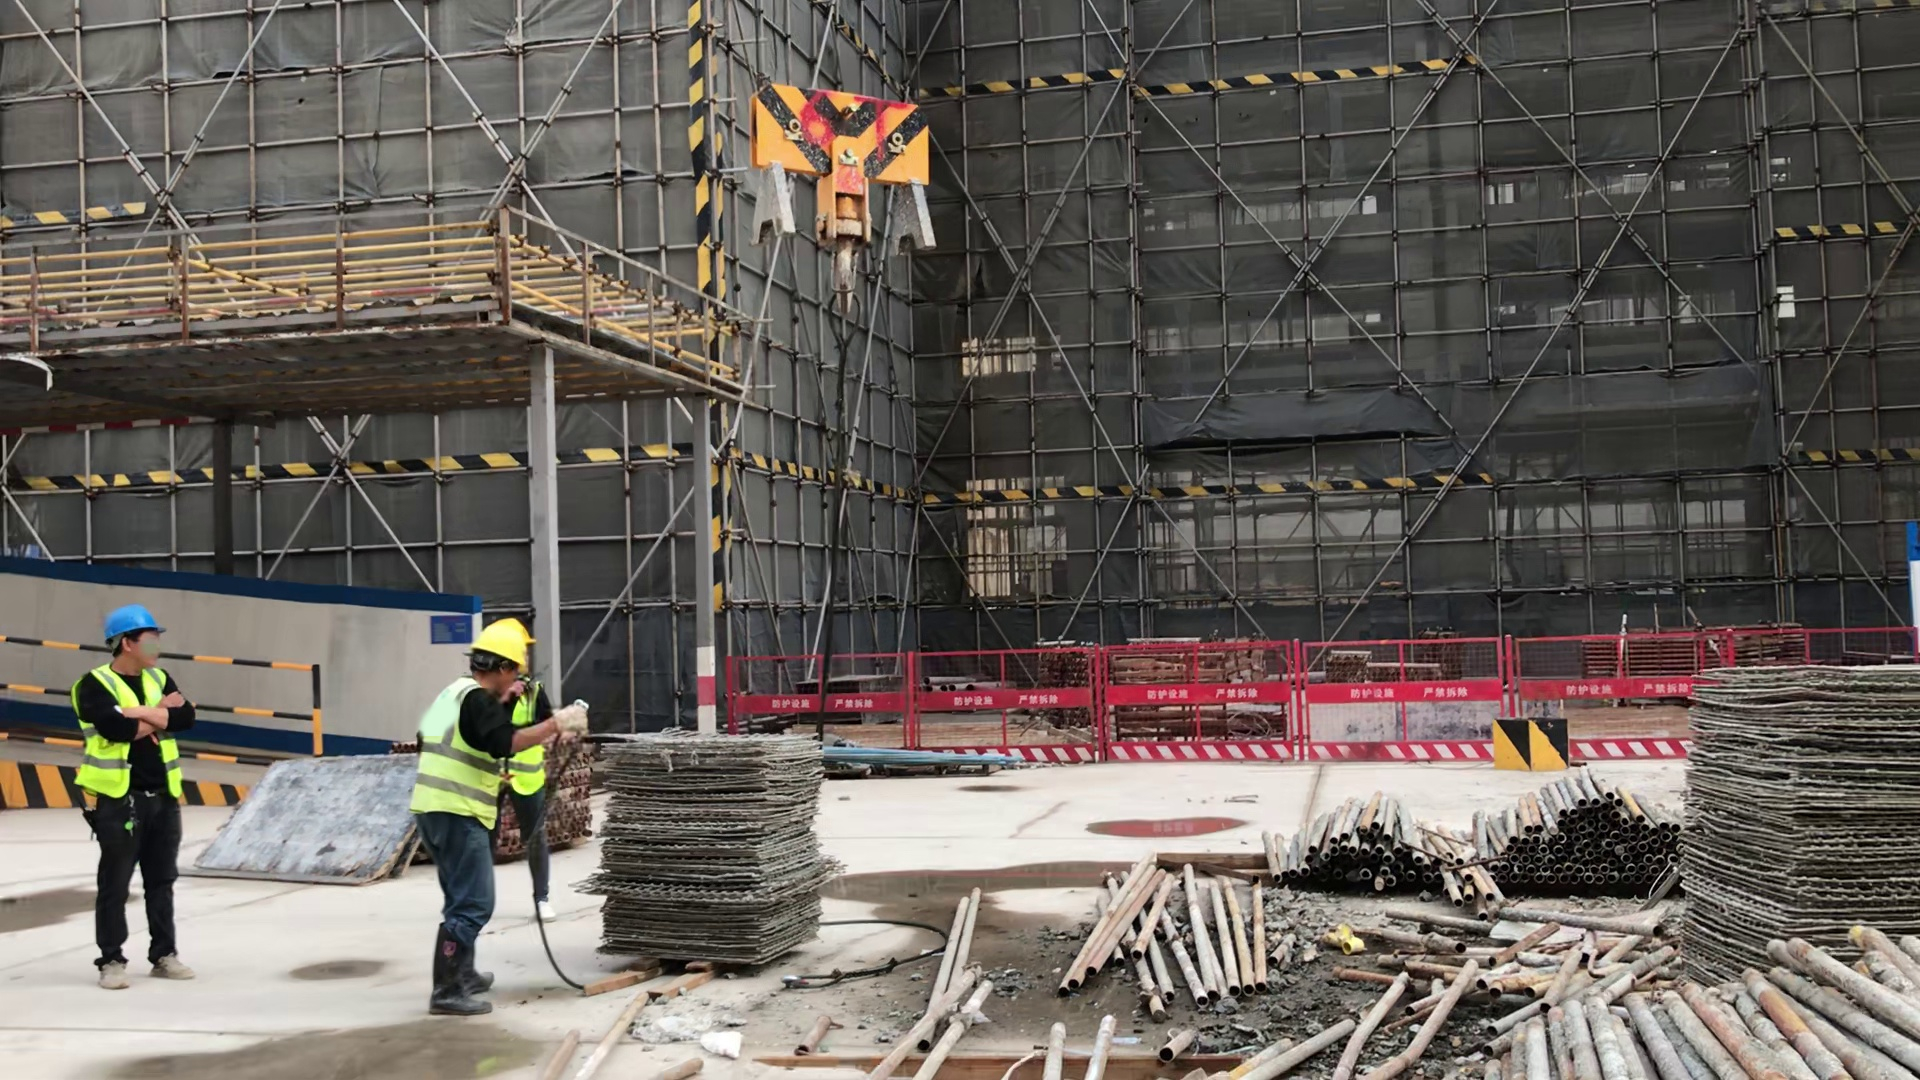fence: (1021, 634, 1477, 769), (1562, 615, 1682, 760), (839, 639, 1007, 743), (214, 653, 329, 753), (10, 626, 66, 754), (722, 645, 813, 719)
helmet: (106, 608, 169, 649), (469, 622, 528, 664)
hook: (737, 76, 941, 316)
person: (404, 622, 591, 1017), (70, 600, 206, 997)
scaffold: (1456, 919, 1920, 1080), (1477, 769, 1685, 905), (1252, 790, 1467, 898)
vest: (75, 664, 191, 808), (411, 678, 504, 838)
